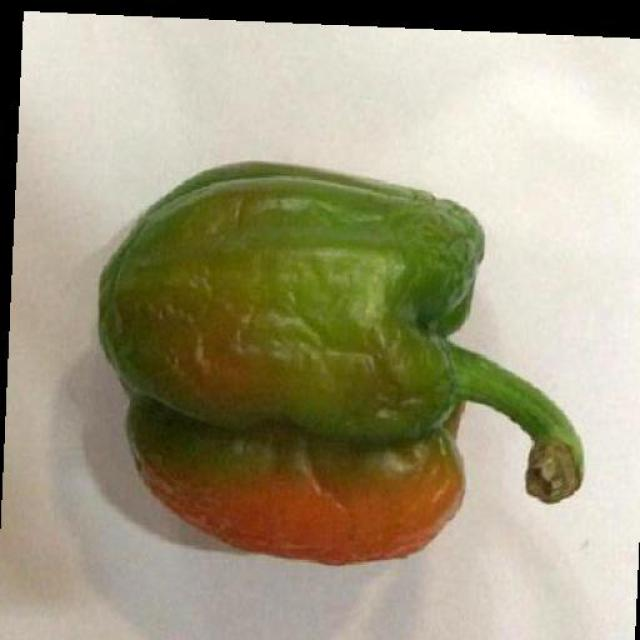Stale_Capsicum: (117, 122, 578, 570)
